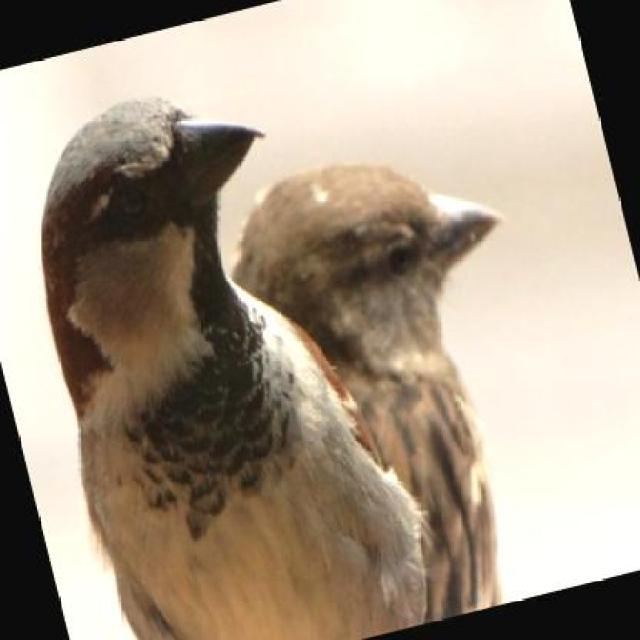sparrow: (0, 69, 365, 640), (210, 105, 584, 638)
